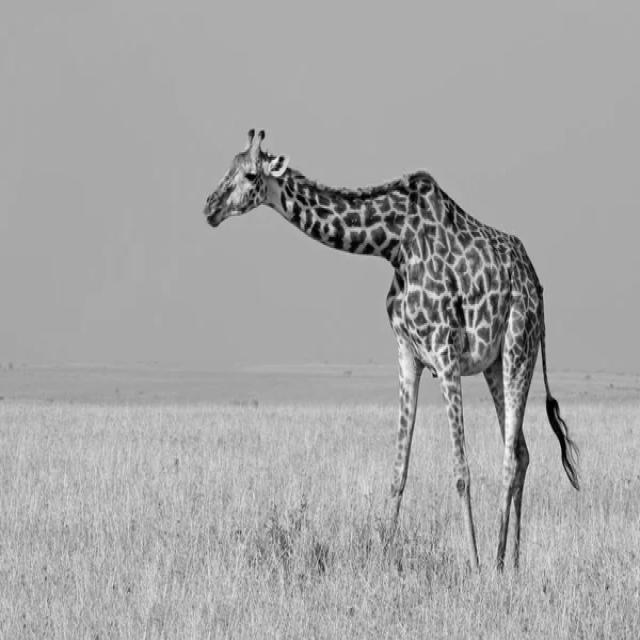Animal: (203, 123, 579, 575)
